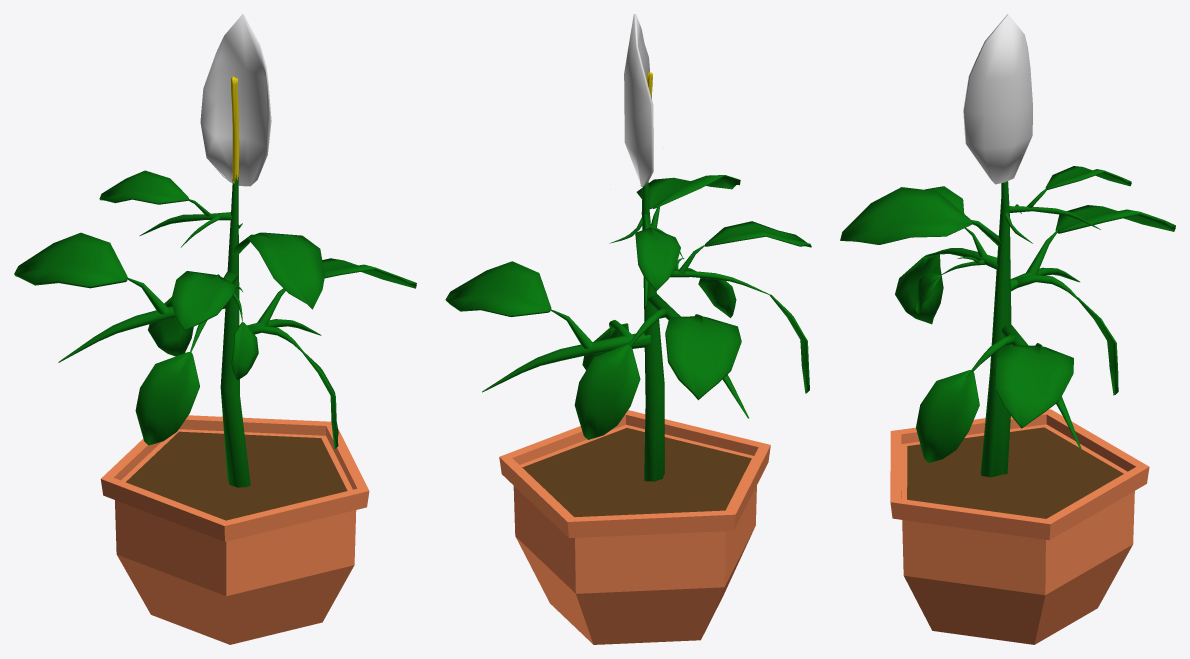
The model's file is Flor de la paz.fbx.
The picture shows the model from 3 angles, left to right: view 1: azimuth 30°, elevation 25°; view 2: azimuth 150°, elevation 25°; view 3: azimuth 270°, elevation 25°; orthographic projection.
Visible parts, largest first — view 1: CALABACINS.009; view 2: CALABACINS.009; view 3: CALABACINS.009.
Boxes of the visible parts, x1,y1,x2,y2 form: CALABACINS.009: [14, 14, 416, 644]; CALABACINS.009: [445, 14, 811, 644]; CALABACINS.009: [840, 14, 1175, 644].
Size of the model in its own units: 99.96 by 170 by 86.7.
